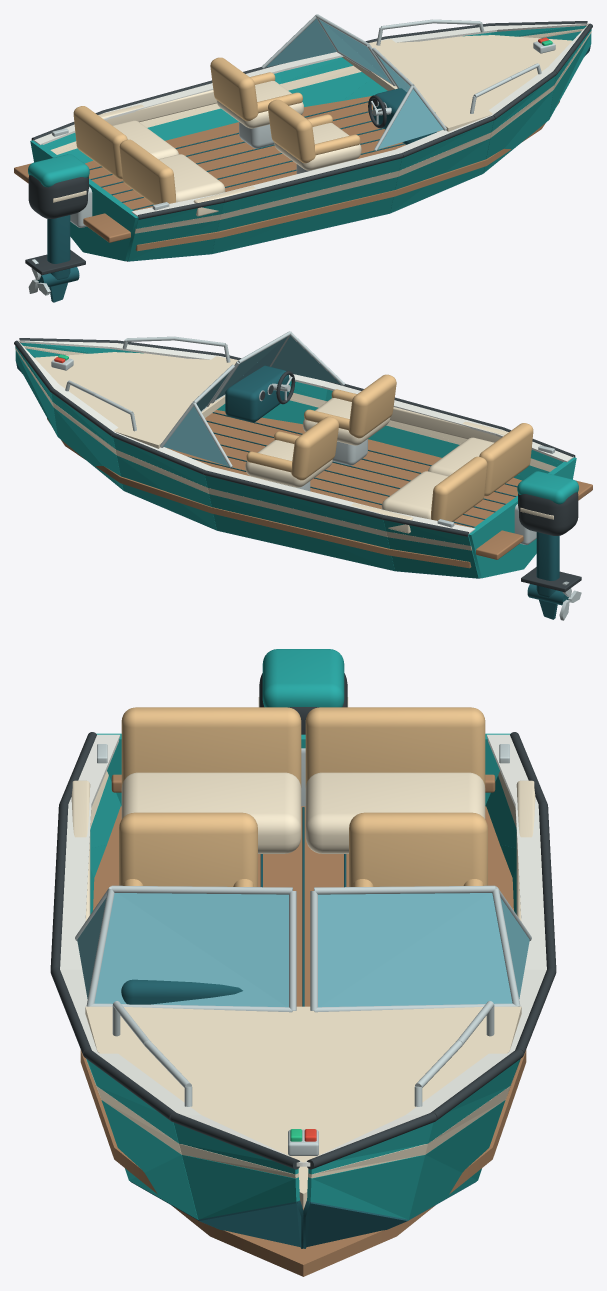
3 views of the same model, one above another, from view 1: azimuth 30°, elevation 25°; view 2: azimuth 150°, elevation 25°; view 3: azimuth 270°, elevation 25° (orthographic). The views are drawn at different scales.
Visible parts, largest first — view 1: Cockpit sole, Raised foredeck, Painted transom, Starboard topsides 2 B, Aft bench back 1, Starboard topsides 2 A, Aft bench back -1, Bucket backrest -1, Bucket backrest 1, Outboard powerhead, Aft bench cushion 1, Windscreen return 1 (+49 smaller); view 2: Cockpit sole, Raised foredeck, Painted transom, Port topsides 2 B, Aft bench back -1, Port topsides 2 A, Dashboard console, Aft bench back 1, Bucket backrest -1, Bucket backrest 1, Outboard powerhead, Aft bench cushion -1 (+44 smaller); view 3: Raised foredeck, Cockpit sole, Aft bench back -1, Aft bench back 1, Tinted windscreen -1 A, Bucket backrest -1, Bucket backrest 1, Tinted windscreen -1 B, Tinted windscreen 1 B, Aft bench cushion -1, Aft bench cushion 1, Tinted windscreen 1 A (+47 smaller).
Boxes of the visible parts, x1,y1,x2,y2 form: Cockpit sole: (85,96,559,251); Raised foredeck: (342,35,572,131); Painted transom: (30,140,138,261); Starboard topsides 2 B: (213,177,397,253); Aft bench back 1: (119,139,175,204); Starboard topsides 2 A: (212,177,396,253); Aft bench back -1: (73,106,127,179); Bucket backrest -1: (210,57,258,121); Bucket backrest 1: (268,99,315,163); Outboard powerhead: (28,175,88,218); Aft bench cushion 1: (159,154,225,202); Windscreen return 1: (378,89,443,149); Cockpit sole: (47,410,521,568); Raised foredeck: (34,352,238,448); Painted transom: (468,457,576,578); Port topsides 2 B: (209,494,393,570); Aft bench back -1: (431,456,487,521); Port topsides 2 A: (210,494,394,570); Dashboard console: (225,365,289,422); Aft bench back 1: (479,423,533,496); Bucket backrest -1: (291,416,338,480); Bucket backrest 1: (348,374,396,438); Outboard powerhead: (518,492,578,535); Aft bench cushion -1: (381,471,448,519); Raised foredeck: (85,1006,521,1207); Cockpit sole: (80,806,526,1276); Aft bench back -1: (305,707,485,787); Aft bench back 1: (121,707,301,787); Tinted windscreen -1 A: (320,893,512,1007); Bucket backrest -1: (349,812,487,886); Bucket backrest 1: (119,812,257,886); Tinted windscreen -1 B: (318,893,489,1007); Tinted windscreen 1 B: (117,893,288,1007); Aft bench cushion -1: (305,772,485,853); Aft bench cushion 1: (121,772,301,853); Tinted windscreen 1 A: (94,893,286,1007).
Size of the model in its own units: 5.37 by 1.65 by 2.11.
